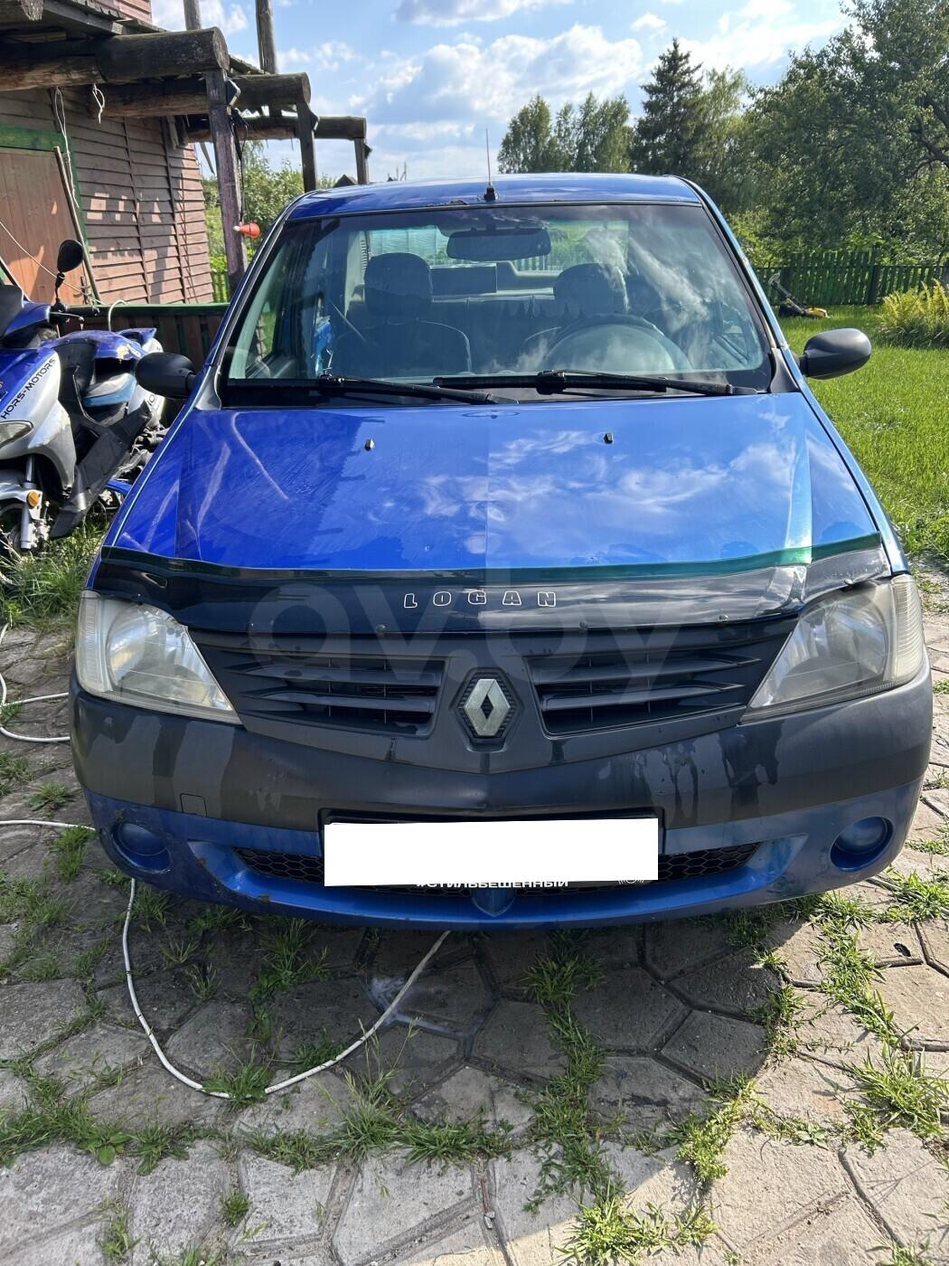Logan_2004-2009: (51, 181, 933, 948)
